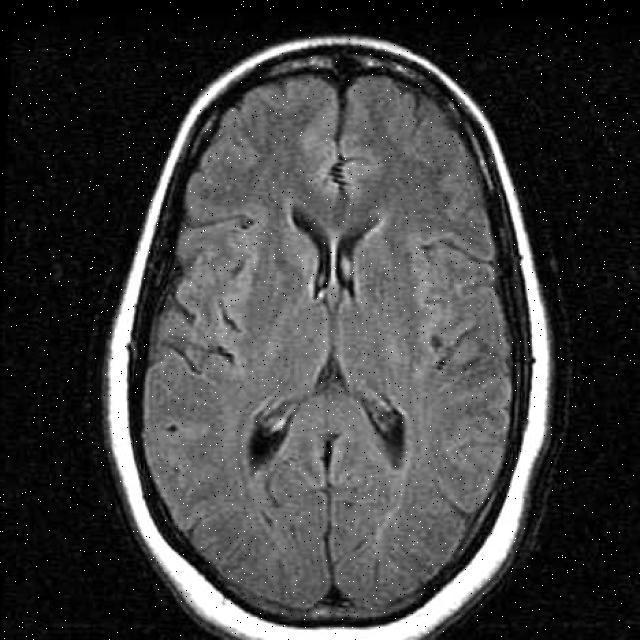No_Tumor: (106, 37, 552, 639)
